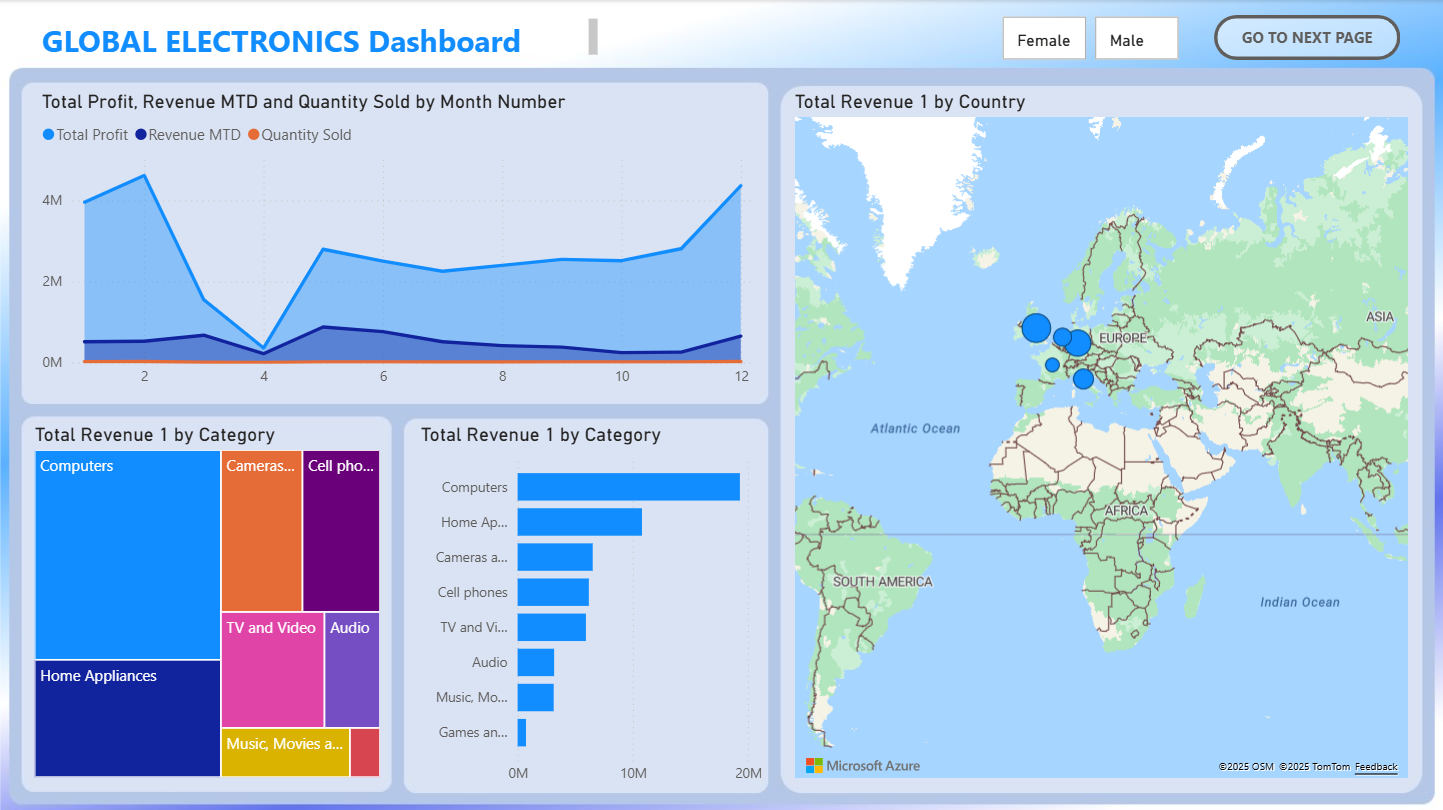

This screenshot's page, from the dashboard's own definition file:
{"tool":"powerbi","page":{"name":"Sales Performance","canvas":[1280,720],"ordinal":1},"visuals":[{"type":"areaChart","fields":{"Y":["DAX CALC.Total Profit","DAX CALC.Revenue MTD","DAX CALC.Quantity Sold"],"Category":["Calendar.Month Number"]},"box":[32,80,640,272],"z":0},{"type":"azureMap","fields":{"Size":["DAX CALC.Total Revenue 1"],"Category":["Customers.Country"]},"box":[699.3,79.8,554.4,614.7],"z":1000},{"type":"treemap","fields":{"Values":["DAX CALC.Total Revenue 1"],"Group":["Products.Category"]},"box":[25.3,375.4,316.1,319],"z":2000},{"type":"barChart","fields":{"Y":["DAX CALC.Total Revenue 1"],"Category":["Products.Category"]},"box":[367.7,375.4,312.2,328.8],"z":3000},{"type":"textbox","box":[32.1,11.7,502.9,43.8],"z":3001},{"type":"advancedSlicerVisual","fields":{"Values":["Customers.Gender"]},"box":[884.1,9.7,167.3,48.6],"z":3002},{"type":"actionButton","box":[1076.7,13.6,165.3,39.9],"z":3003}]}

Visuals, with their boxes in screenshot pixels (x1, y1, x2, y2), scaled from the page's 1280x720 canvas onto the 1443x810 screenshot:
areaChart - DAX CALC.Total Profit x DAX CALC.Revenue MTD: pyautogui.locateOnScreen(36, 90, 758, 396)
azureMap - DAX CALC.Total Revenue 1 x Customers.Country: pyautogui.locateOnScreen(788, 90, 1413, 781)
treemap - DAX CALC.Total Revenue 1 x Products.Category: pyautogui.locateOnScreen(29, 422, 385, 781)
barChart - DAX CALC.Total Revenue 1 x Products.Category: pyautogui.locateOnScreen(415, 422, 766, 792)
textbox: pyautogui.locateOnScreen(36, 13, 603, 62)
advancedSlicerVisual - Customers.Gender: pyautogui.locateOnScreen(997, 11, 1185, 66)
actionButton: pyautogui.locateOnScreen(1214, 15, 1400, 60)
